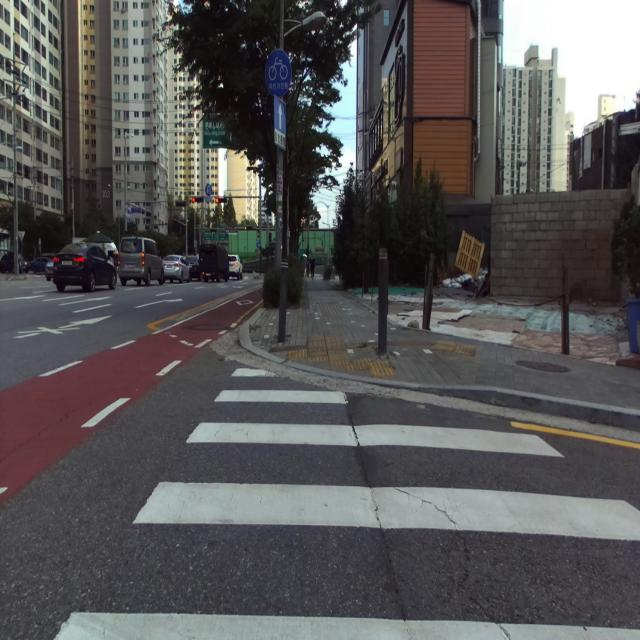횡단보도: (54, 369, 640, 640)
